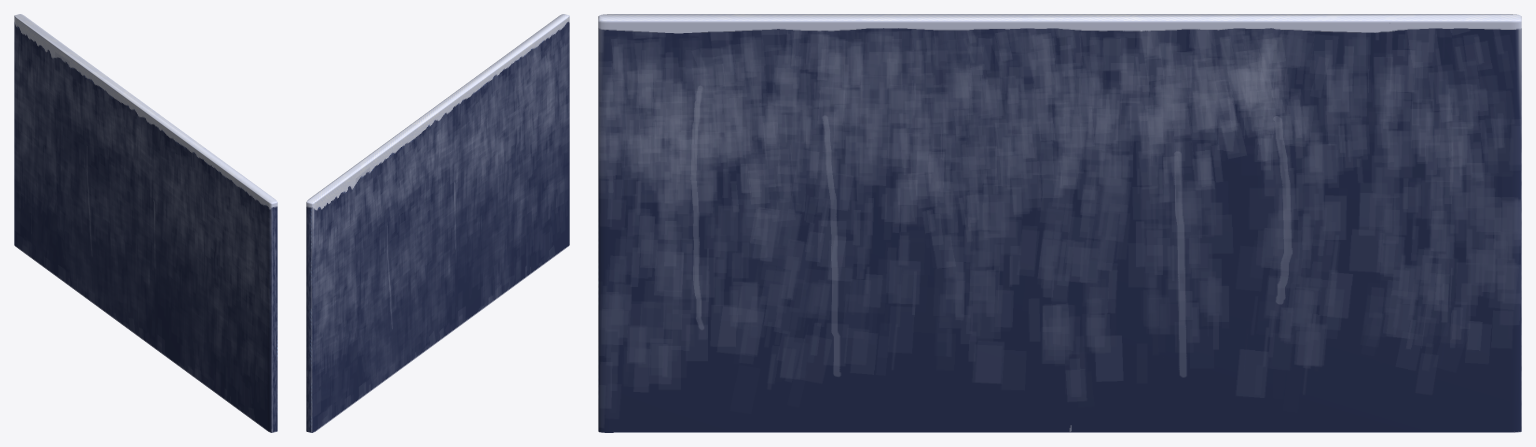
Rendered from Platform_InitialPath.fbx.
3 renders of one model, left to right at view 1: azimuth 30°, elevation 25°; view 2: azimuth 150°, elevation 25°; view 3: azimuth 270°, elevation 25°, orthographic. The views are drawn at different scales.
Visible parts, largest first — view 1: InitialPath; view 2: InitialPath; view 3: InitialPath.
Part boxes in pixels (x1=…): InitialPath: x1=14, y1=14, x2=277, y2=432; InitialPath: x1=306, y1=14, x2=569, y2=432; InitialPath: x1=598, y1=14, x2=1521, y2=432.
Size of the model in its own units: 1615 by 42194 by 85763.
